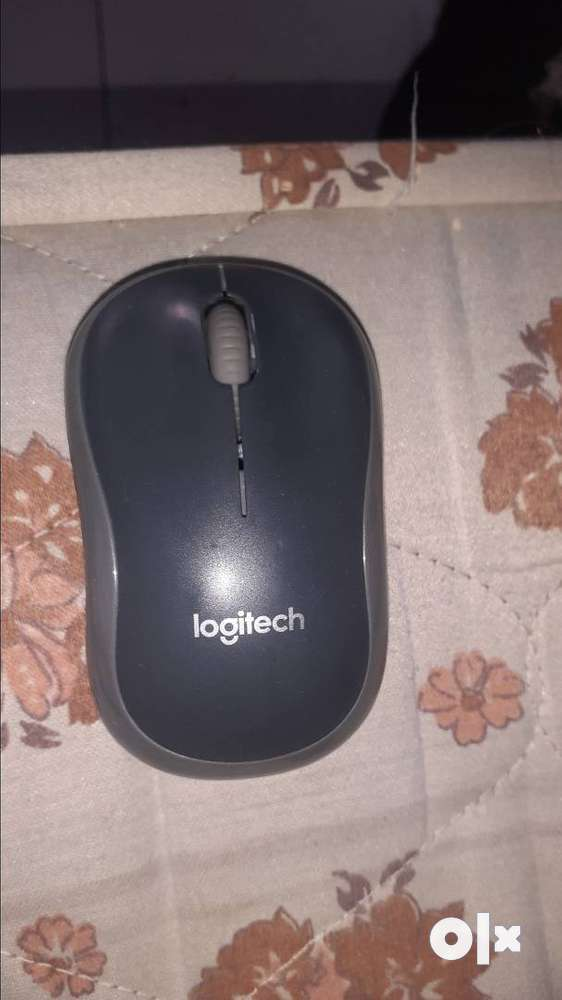logitech-mouse-m185: (58, 227, 393, 792)
